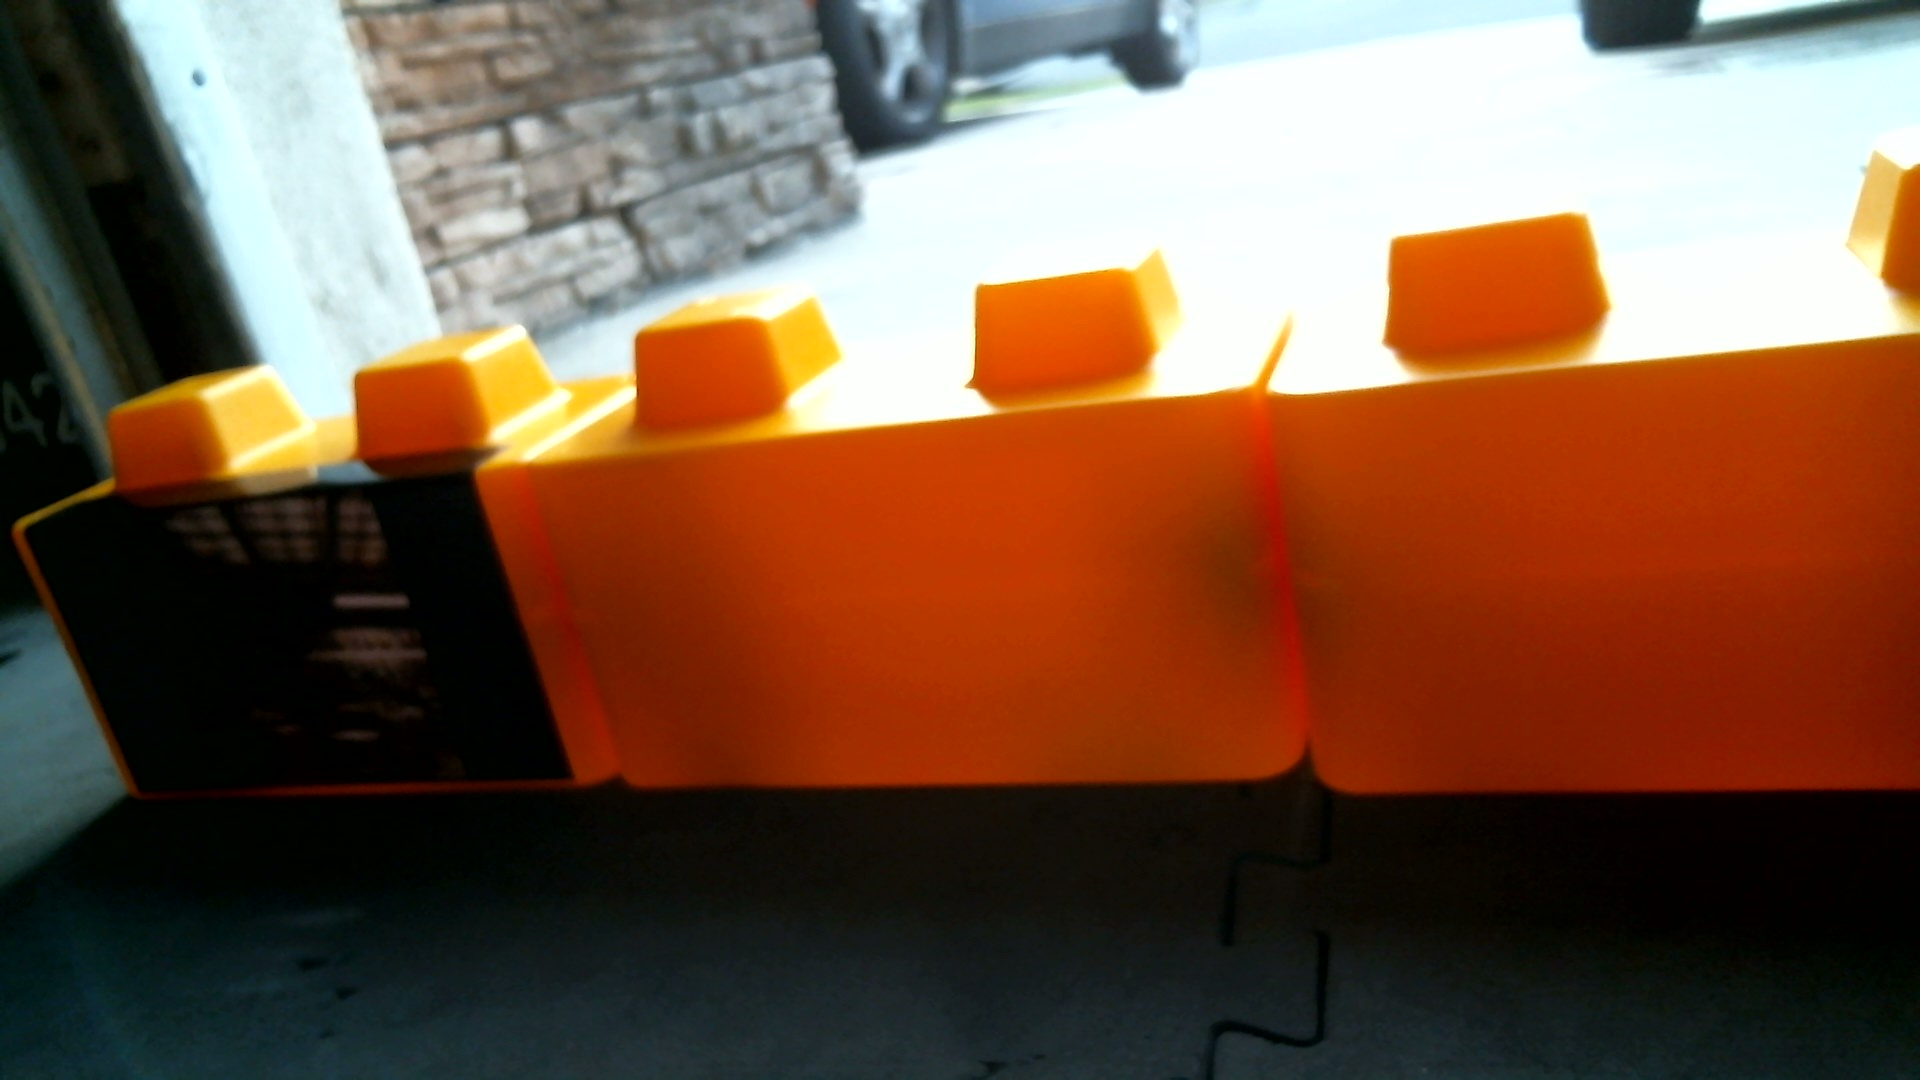left: (18, 141, 1919, 849)
